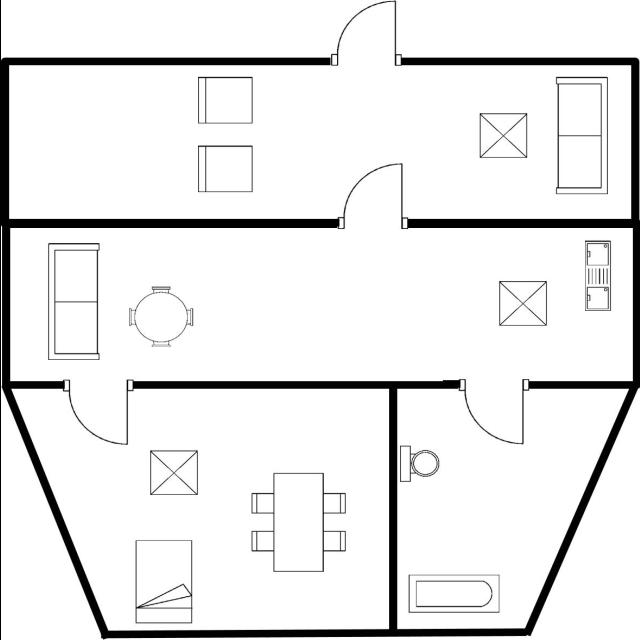bed: (130, 535, 198, 627)
coffee_table: (494, 275, 552, 329), (143, 445, 201, 499), (476, 108, 530, 162)
dining_table: (246, 467, 352, 577)
large_sink: (398, 439, 443, 484)
large_sofa: (43, 235, 105, 364), (550, 72, 612, 198)
round_table: (125, 282, 197, 350)
small_sofa: (193, 140, 259, 198), (195, 72, 257, 126)
tub: (404, 568, 504, 616)
twin_sink: (580, 234, 616, 314)
